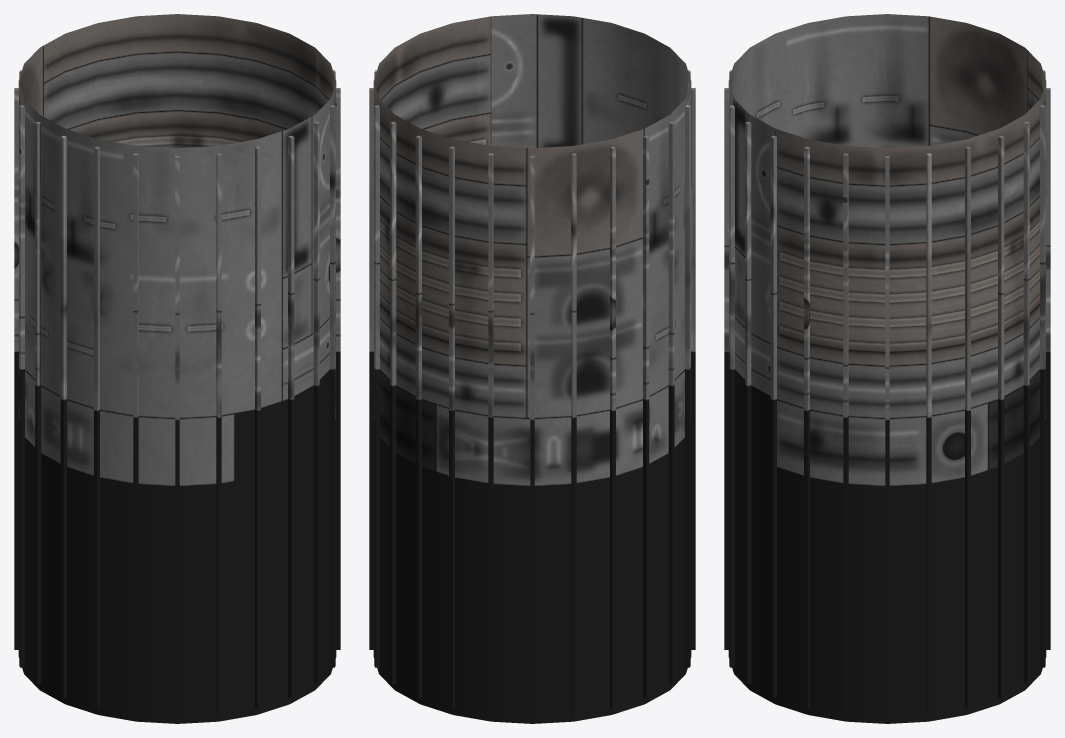
File: Streak_FuelTank_1p5_1.obj
3 views of the same model, side by side, from view 1: azimuth 30°, elevation 25°; view 2: azimuth 150°, elevation 25°; view 3: azimuth 270°, elevation 25° (orthographic).
Visible parts, largest first — view 1: Streak_FuelTank_1p5_1; view 2: Streak_FuelTank_1p5_1; view 3: Streak_FuelTank_1p5_1.
Part boxes in pixels (left/top/right/bottom): Streak_FuelTank_1p5_1: left=14, top=14, right=340, bottom=723; Streak_FuelTank_1p5_1: left=369, top=14, right=695, bottom=723; Streak_FuelTank_1p5_1: left=724, top=14, right=1050, bottom=723.
Size of the model in its own units: 1.93 by 3.75 by 1.92.
